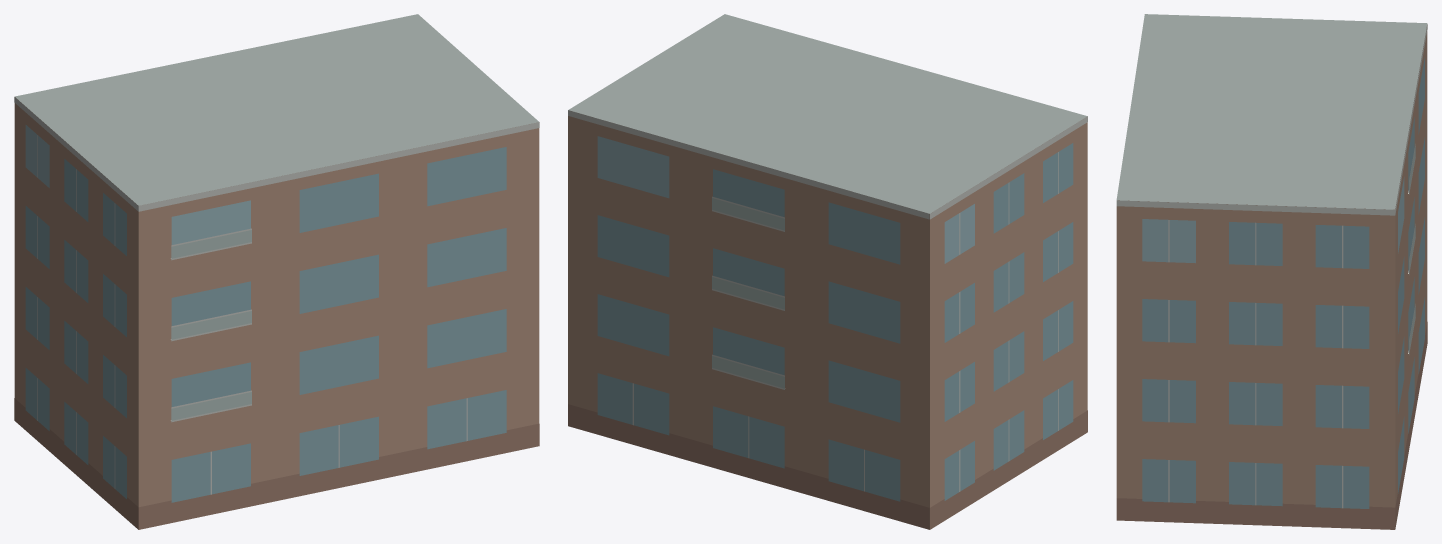
File: survey-upis-32759322.glb
3 renders of one model, left to right at view 1: azimuth 30°, elevation 25°; view 2: azimuth 150°, elevation 25°; view 3: azimuth 270°, elevation 25°, orthographic. The views are drawn at different scales.
Visible parts, largest first — view 1: survey-upis-32759322.tmp; view 2: survey-upis-32759322.tmp; view 3: survey-upis-32759322.tmp.
Part boxes in pixels (x1,y1,x2,y2): survey-upis-32759322.tmp: (14, 14, 539, 529); survey-upis-32759322.tmp: (568, 14, 1087, 529); survey-upis-32759322.tmp: (1116, 14, 1427, 529).
Size of the model in its own units: 17.45 by 13.3 by 11.72.
